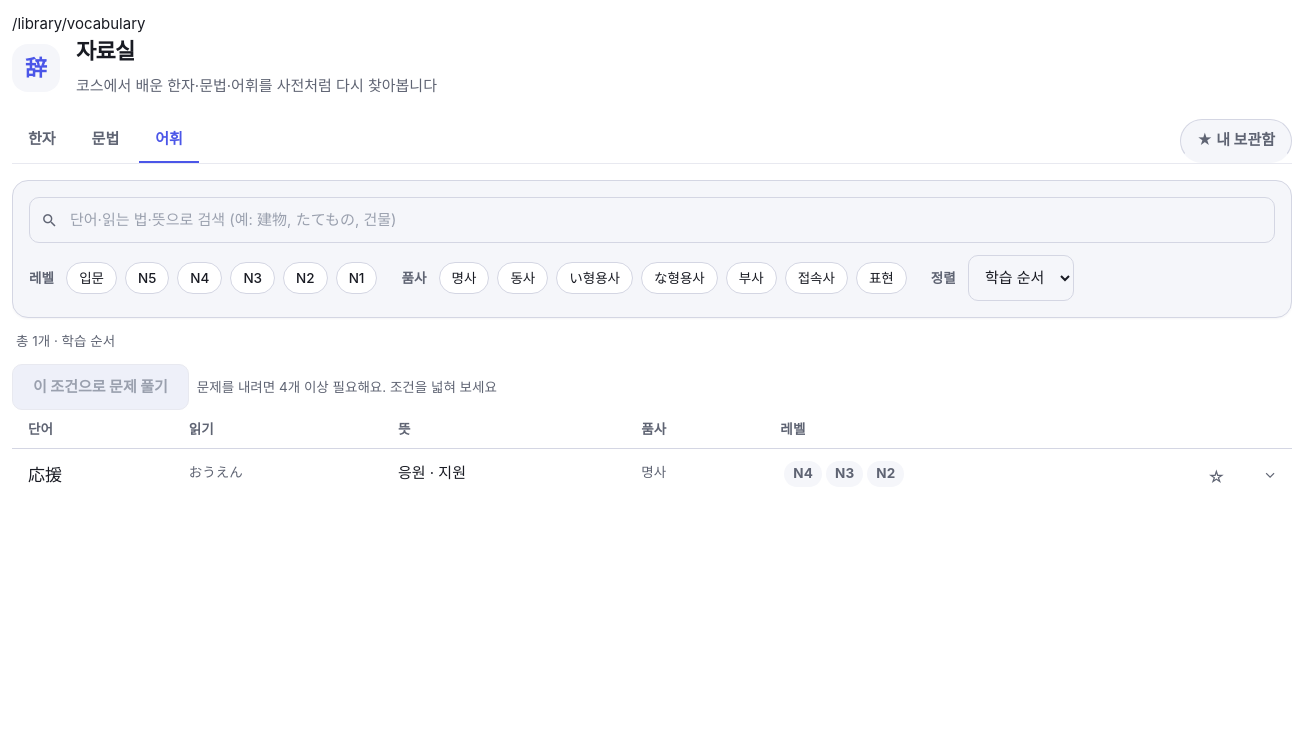
Test case: LibraryVocabPage — 아코디언 (설계/05 §11) › 행을 누르면 펼쳐지고 뜻별 출처와 '배우기'가 나온다 (인수 26·28)
Step 1. Click the button with aria-label "応援 자세히 보기" → (652, 477), box 12,449 -> 1291,506
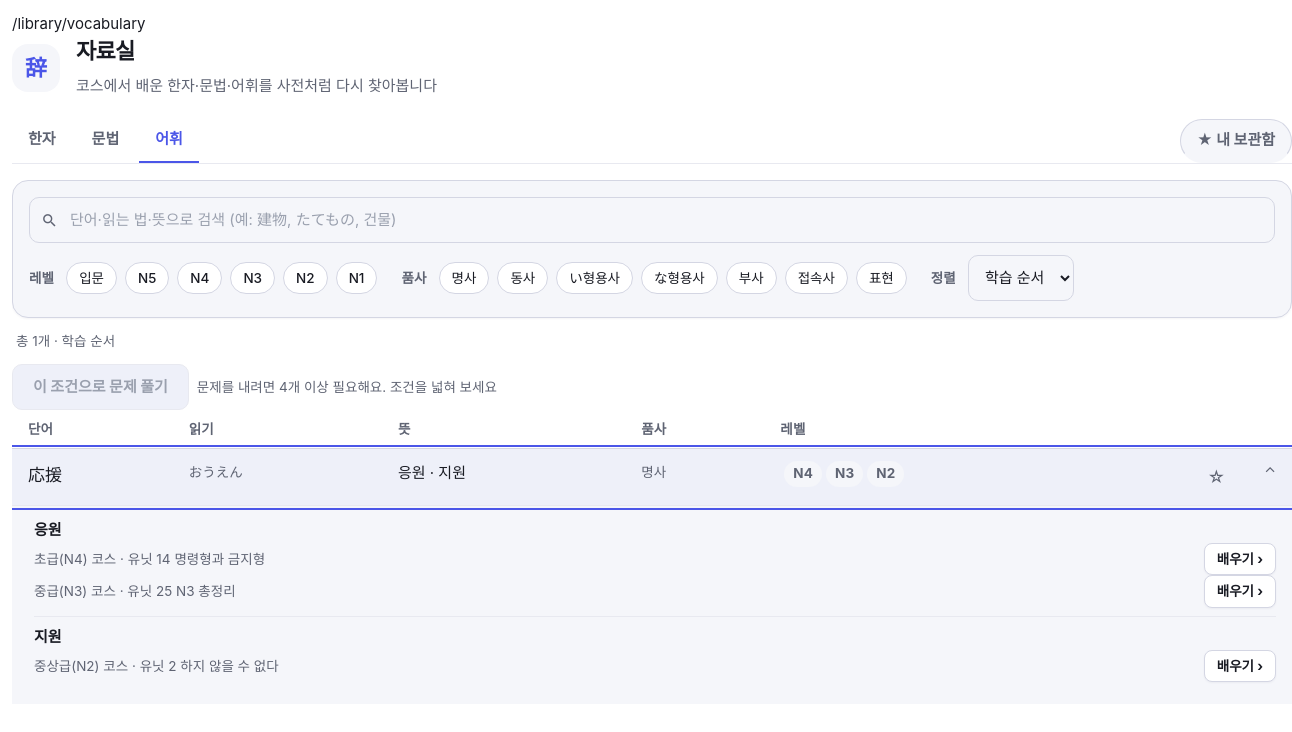
Now the button with aria-label "応援 자세히 보기" is expanded, box 12,449 -> 1291,506
Now the text "초급(N4) 코스 · 유닛 14 명령형과 금지형" is shown, box 34,548 -> 265,570
Now the text "중급(N3) 코스 · 유닛 25 N3 총정리" is shown, box 34,580 -> 236,603
